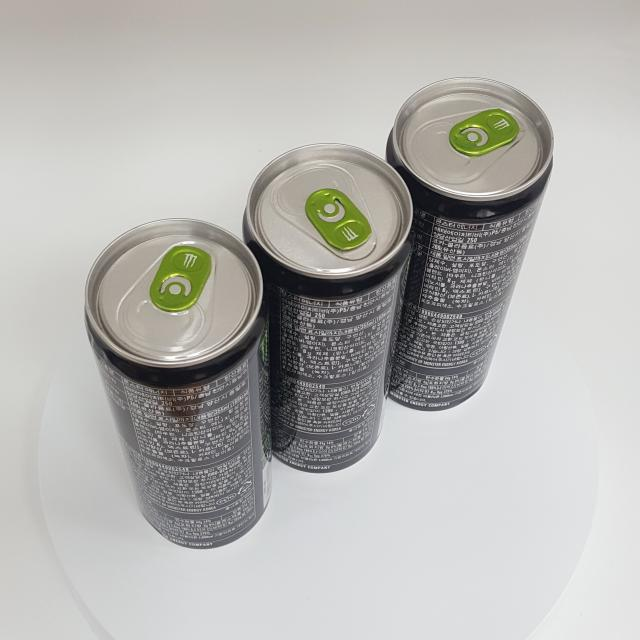--------355ML: (84, 217, 270, 550), (241, 142, 414, 474), (385, 76, 554, 412)
